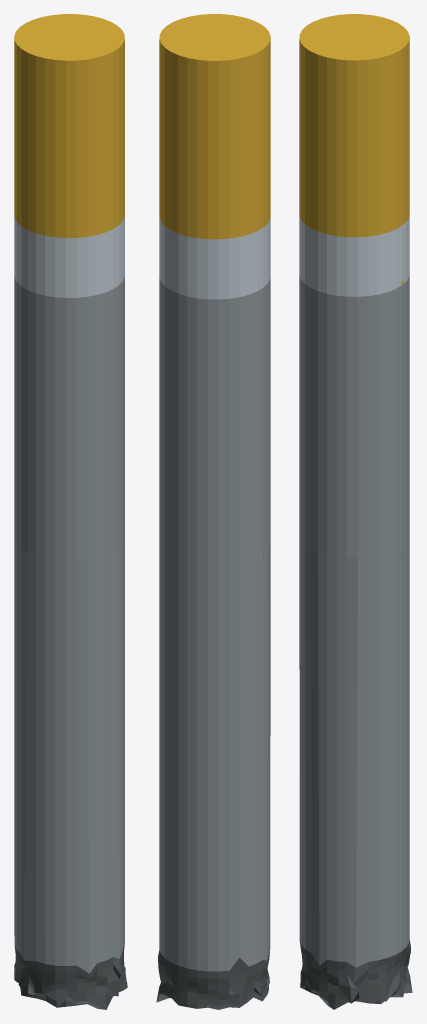
Rendered from Cigarette.fbx.
3 views of the same model, side by side, from view 1: azimuth 30°, elevation 25°; view 2: azimuth 150°, elevation 25°; view 3: azimuth 330°, elevation 25° (orthographic).
Visible parts, largest first — view 1: Cigarette; view 2: Cigarette; view 3: Cigarette.
Part boxes in pixels (<box>): Cigarette: <box>14,14,127,1009</box>; Cigarette: <box>156,14,270,1009</box>; Cigarette: <box>299,14,412,1009</box>.
Size of the model in its own units: 7.5 by 69.84 by 7.44.
